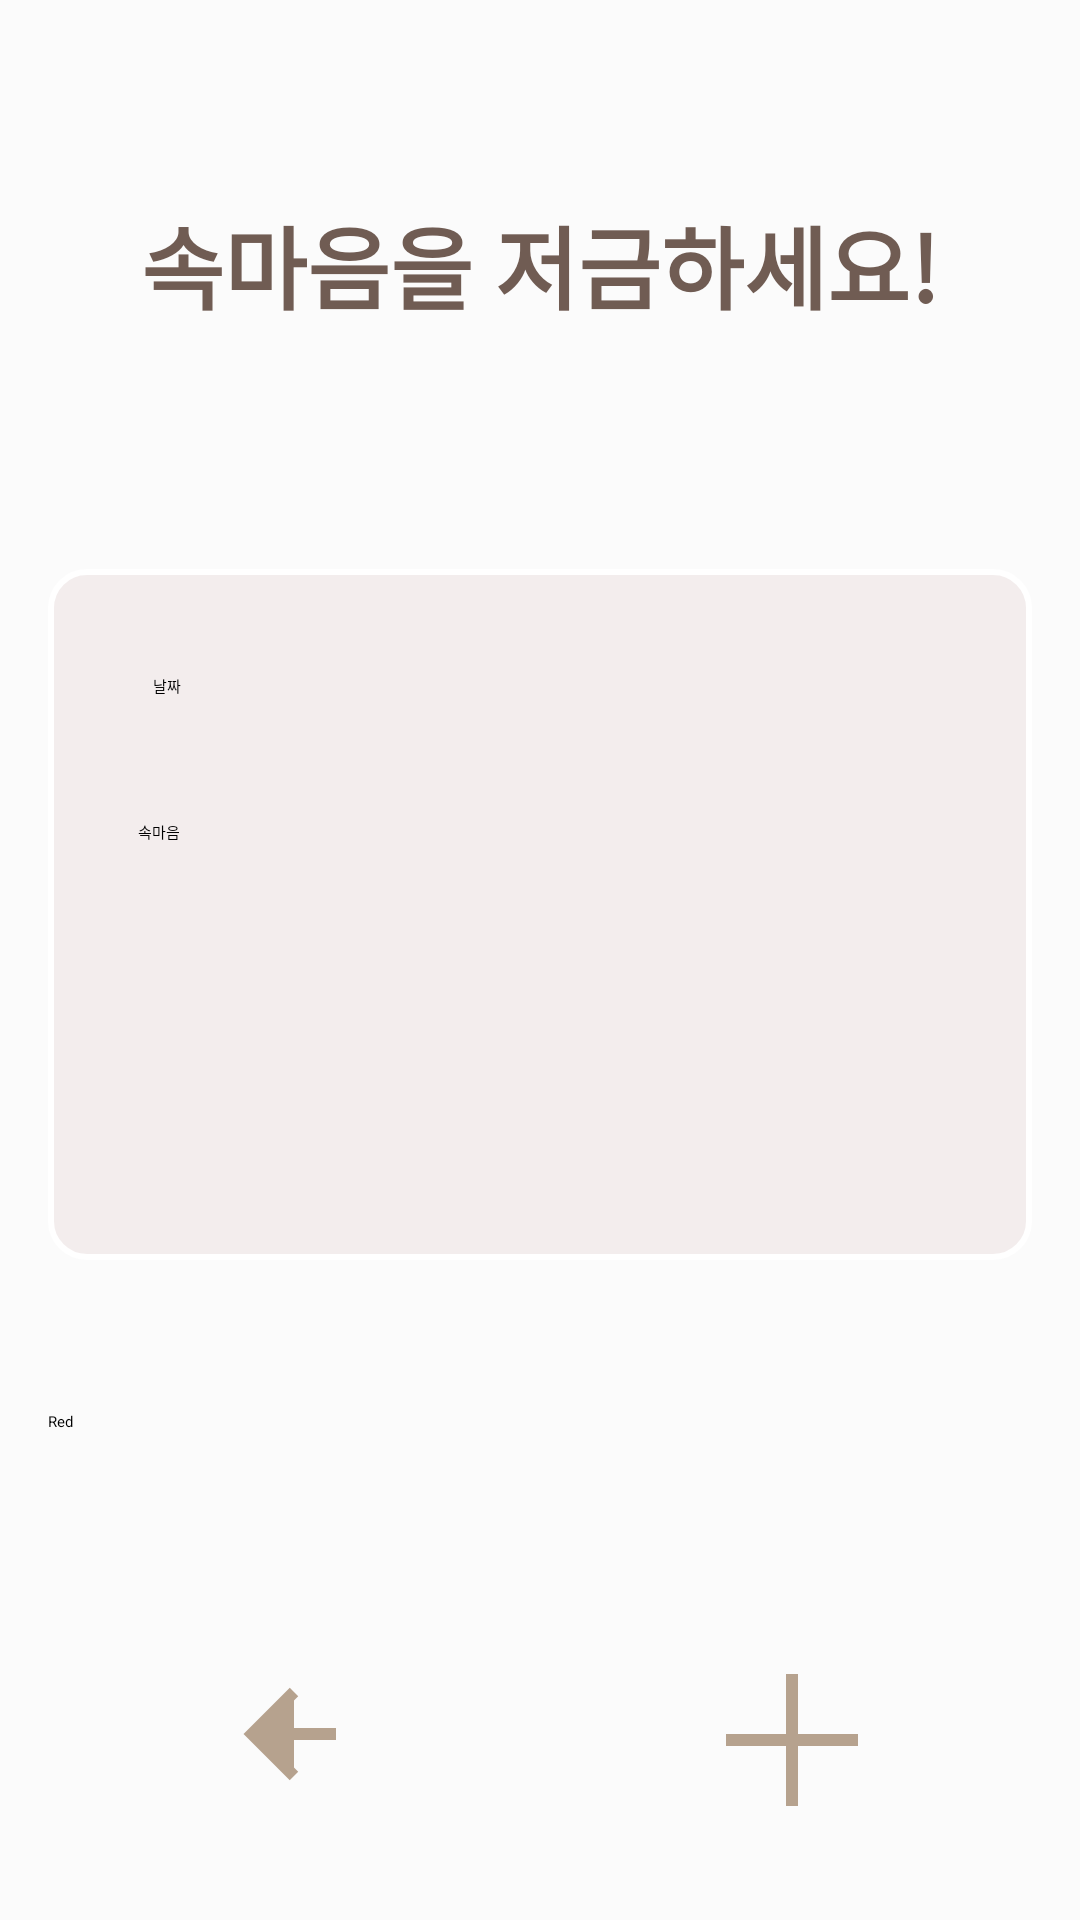

Locate icon controls on the screen. Image size 1080px×1920px, boxes as [x1, y1, x2, y2].
뒤로 가기 버튼: [244, 1688, 336, 1780]
추가 버튼: [726, 1674, 858, 1806]
